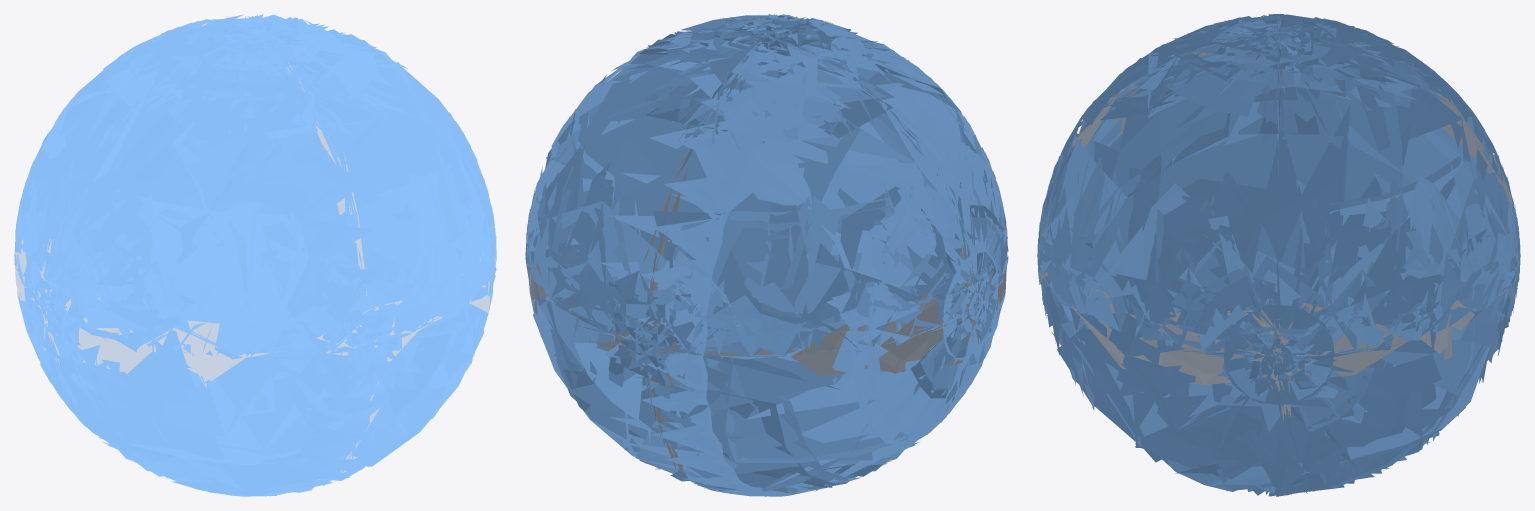
Rendered from stage11.glb.
The picture shows the model from 3 angles, left to right: view 1: azimuth 30°, elevation 25°; view 2: azimuth 150°, elevation 25°; view 3: azimuth 270°, elevation 25°; orthographic projection.
Visible parts, largest first — view 1: ehouse-11-hvac, ehouse-11-structural; view 2: ehouse-11-hvac, ehouse-11-structural; view 3: ehouse-11-hvac, ehouse-11-structural.
Part boxes in pixels (bbox=[...]): ehouse-11-hvac: bbox=[14, 14, 496, 496]; ehouse-11-structural: bbox=[14, 23, 495, 480]; ehouse-11-hvac: bbox=[525, 14, 1008, 496]; ehouse-11-structural: bbox=[525, 18, 1008, 473]; ehouse-11-hvac: bbox=[1037, 14, 1520, 496]; ehouse-11-structural: bbox=[1038, 43, 1520, 422].
Size of the model in its own units: 2 by 2 by 2.
